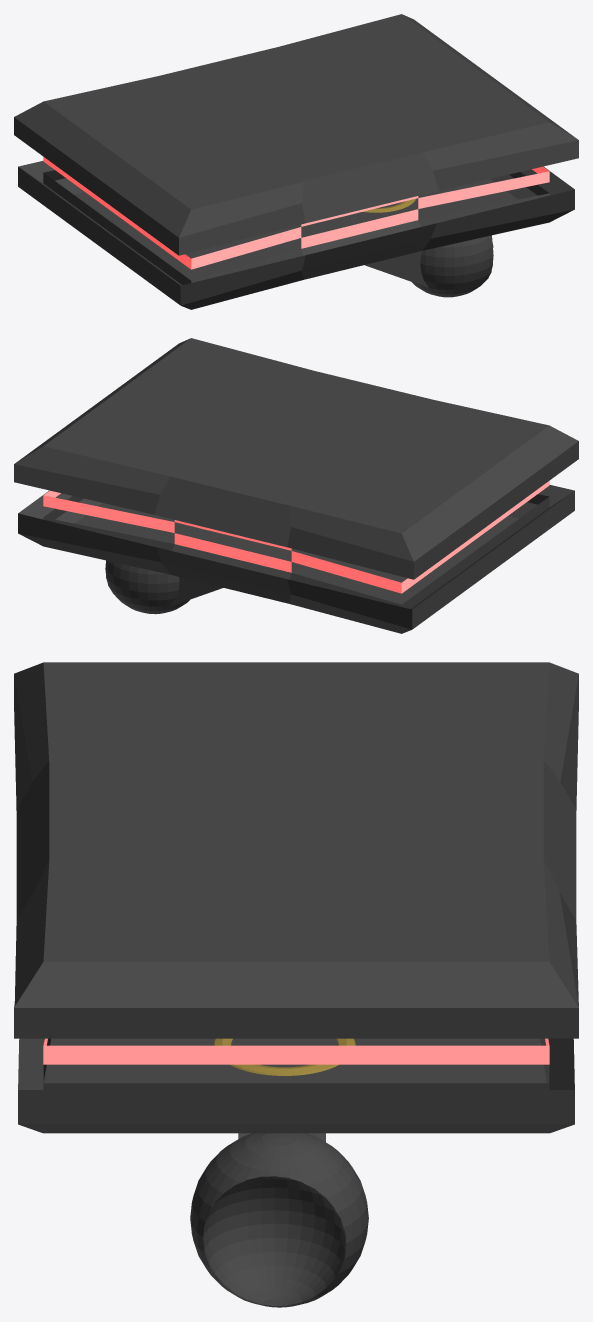
Rendered from Platform2.fbx.
The picture shows the model from 3 angles, top to bottom: view 1: azimuth 30°, elevation 25°; view 2: azimuth 150°, elevation 25°; view 3: azimuth 270°, elevation 25°; orthographic projection. The views are drawn at different scales.
Parts seen in each view (by area): view 1: Cube.002, Cube.003; view 2: Cube.002, Cube.003; view 3: Cube.002, Cube.003, Torus.
Boxes of the visible parts, x1,y1,x2,y2 form: Cube.002: (14, 14, 578, 309); Cube.003: (365, 235, 493, 297); Cube.002: (14, 338, 578, 633); Cube.003: (105, 560, 223, 614); Cube.002: (14, 662, 578, 1133); Cube.003: (190, 1133, 368, 1307); Torus: (213, 1038, 355, 1075).
Bounding box in the file's own units: 1270 × 646 × 907.
